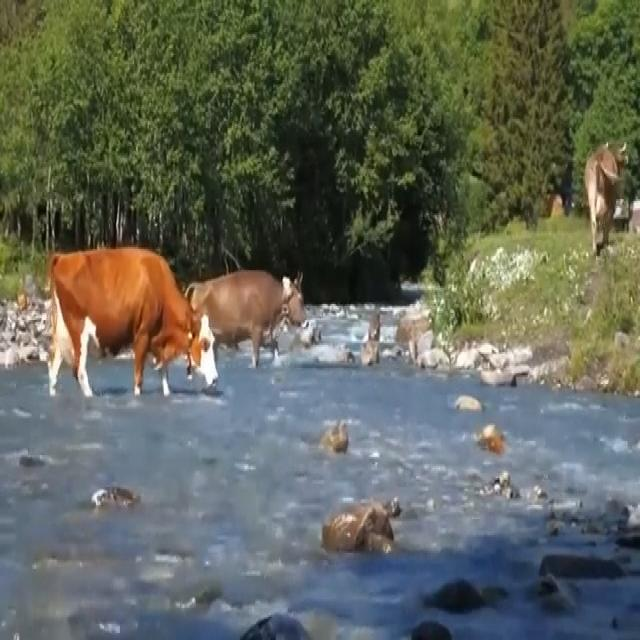cow: (51, 247, 304, 396), (585, 149, 624, 252)
